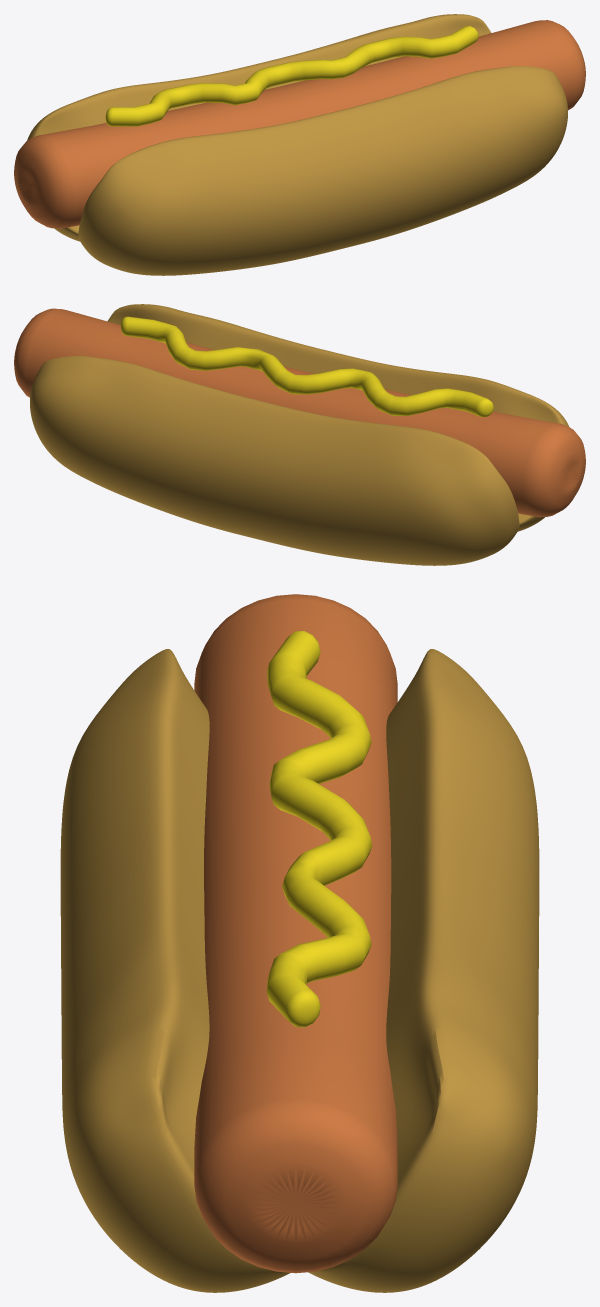
Rendered from hotdog.fbx.
The picture shows the model from 3 angles, top to bottom: view 1: azimuth 30°, elevation 25°; view 2: azimuth 150°, elevation 25°; view 3: azimuth 270°, elevation 25°; orthographic projection. The views are drawn at different scales.
Visible parts, largest first — view 1: BUN, SAUSGE, Mustard; view 2: BUN, SAUSGE, Mustard; view 3: BUN, SAUSGE, Mustard.
Boxes of the visible parts, <box> form: BUN: <box>27,14,567,275</box>; SAUSGE: <box>14,20,585,228</box>; Mustard: <box>105,26,478,126</box>; BUN: <box>30,304,569,565</box>; SAUSGE: <box>14,308,585,517</box>; Mustard: <box>120,316,493,417</box>; BUN: <box>60,649,539,1292</box>; SAUSGE: <box>194,594,397,1273</box>; Mustard: <box>266,631,372,1027</box>.
Size of the model in its own units: 2627 by 768 by 997.
